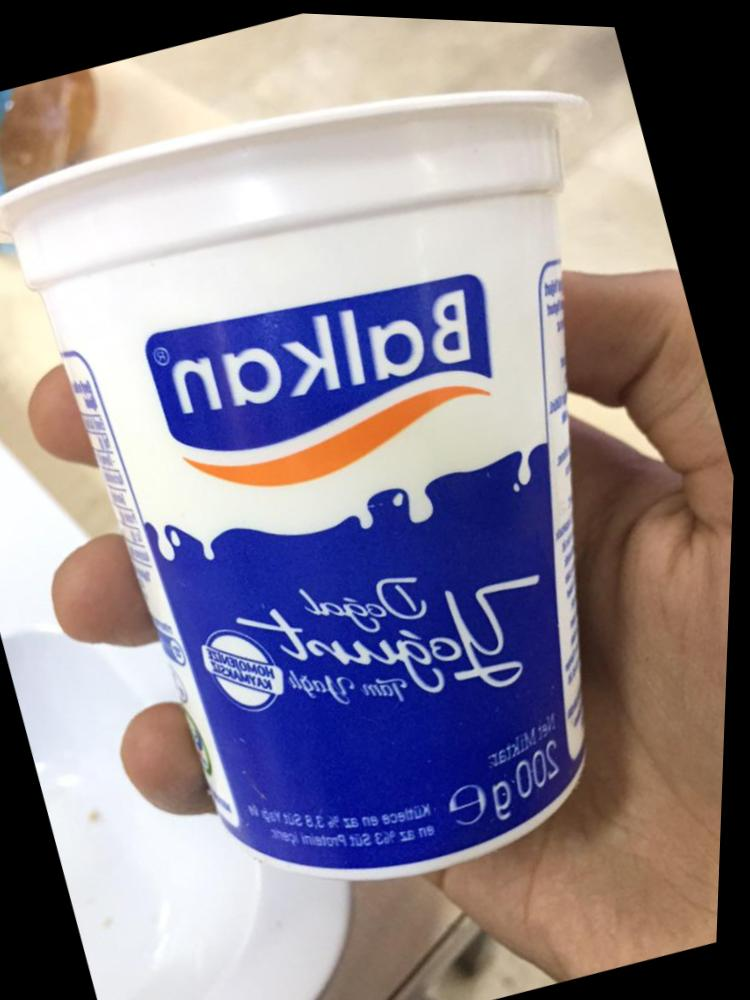plastic: (0, 17, 720, 999)
